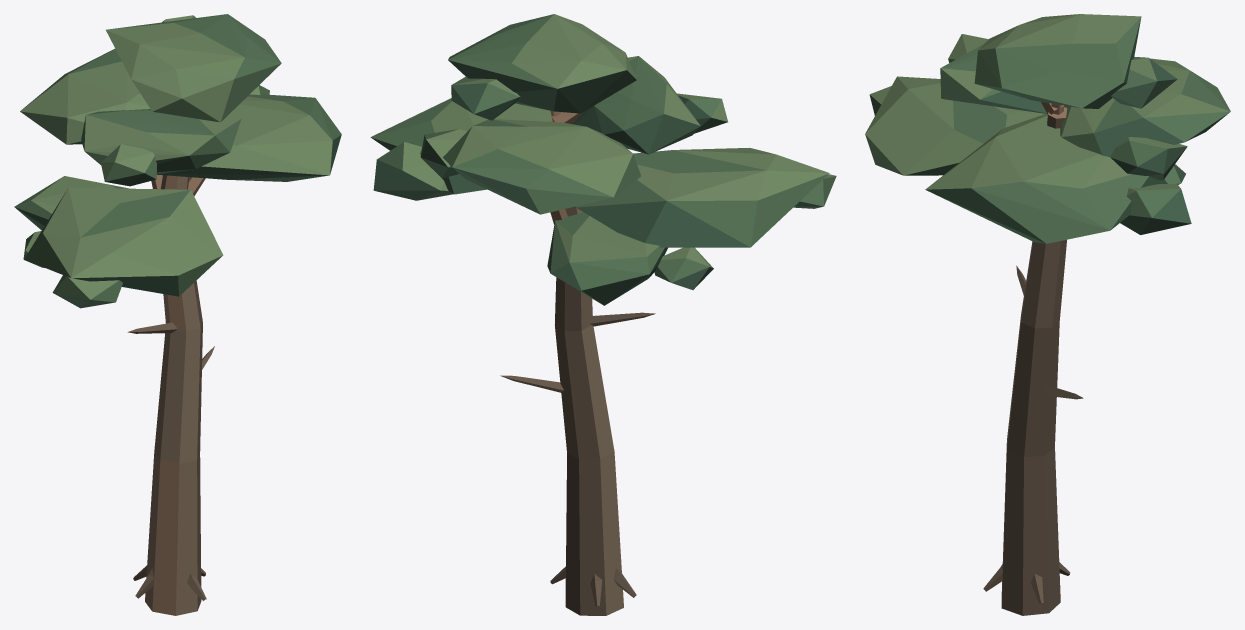
The model's file is tree_temperate_1.glb.
The picture shows the model from 3 angles, left to right: view 1: azimuth 30°, elevation 25°; view 2: azimuth 150°, elevation 25°; view 3: azimuth 270°, elevation 25°; orthographic projection. The views are drawn at different scales.
Parts seen in each view (by area): view 1: Body; view 2: Body; view 3: Body.
Boxes of the visible parts, x1,y1,x2,y2 form: Body: (14,14,341,615); Body: (370,14,836,615); Body: (865,14,1230,615).
Size of the model in its own units: 4.45 by 6.62 by 3.76.
